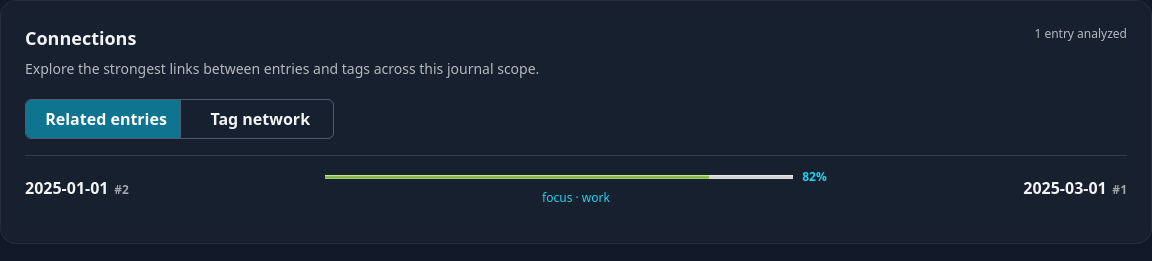
Test case: StatsCorrelationGraph › writes single counts in en
This screenshot has width=1152, height=261.
Expected: the text "1 entry analyzed" is shown, top-left (1034, 25), bottom-right (1127, 43)
Click the tab "Tag network" at (257, 119), box top-left (180, 100), bottom-right (333, 138)
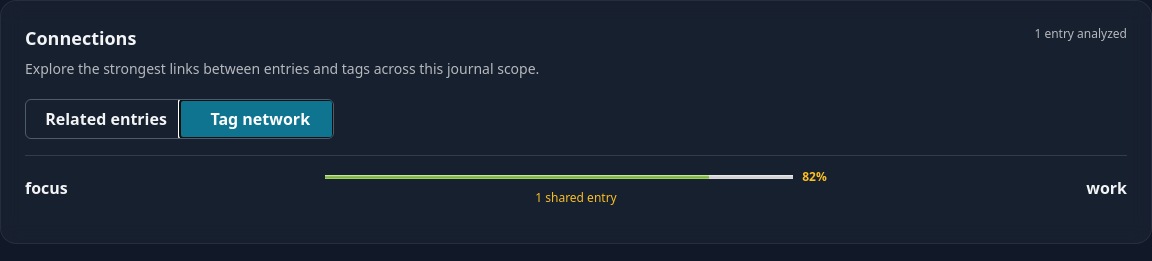
Result: the text "1 shared entry" is shown at top-left (535, 189), bottom-right (617, 206)
